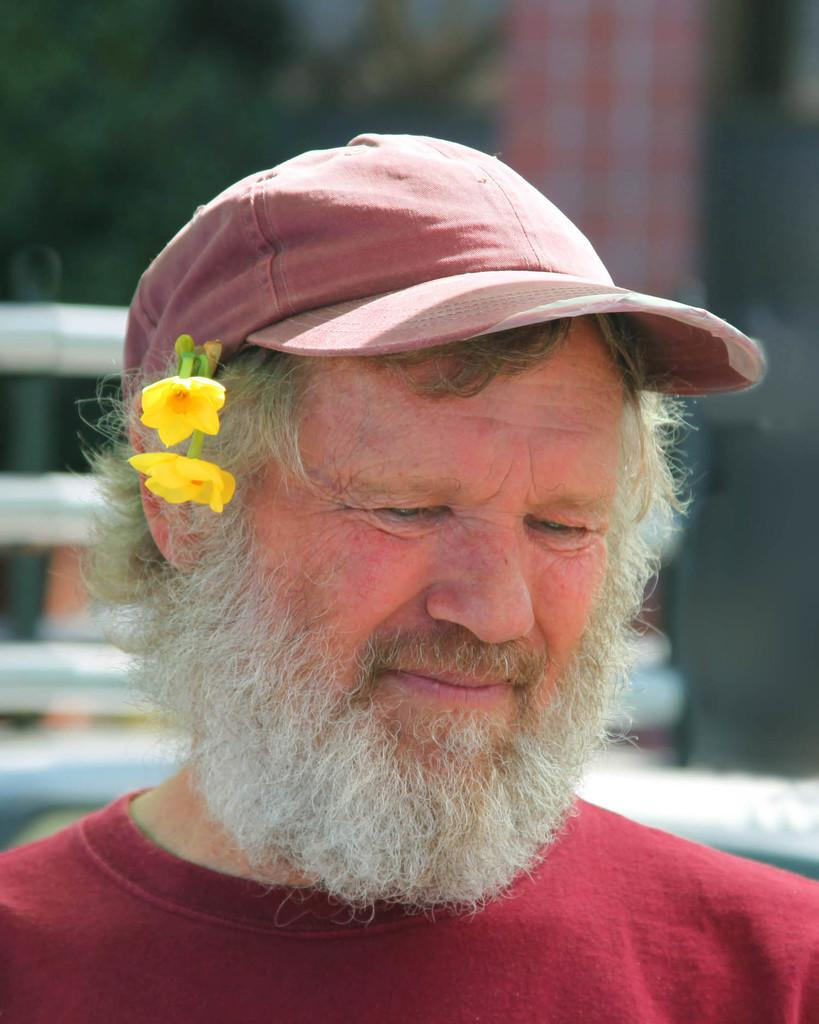Hat: (121, 134, 766, 432)
